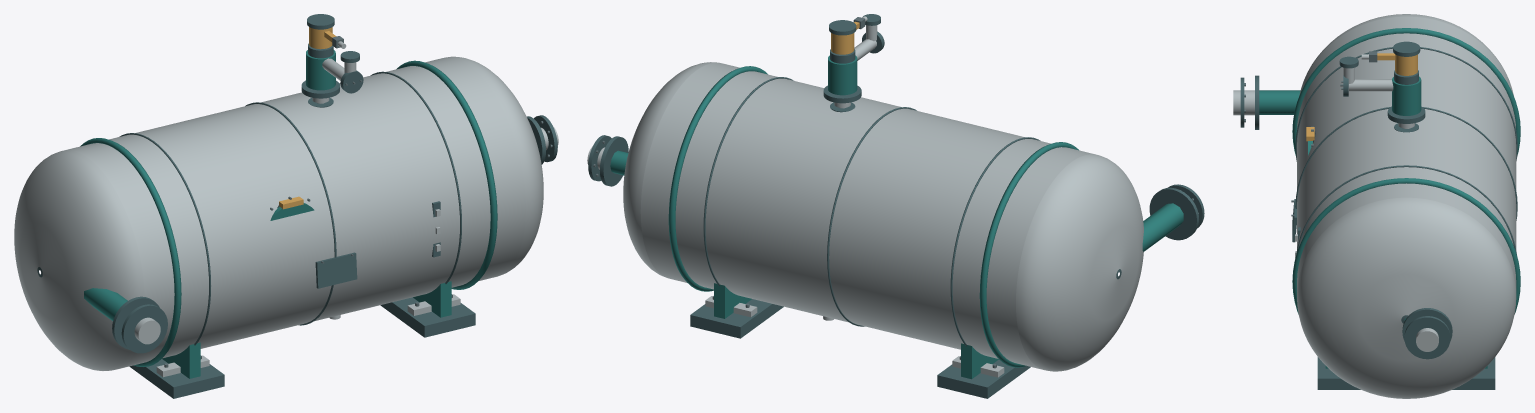
Rendered from separator_vessel.glb.
3 renders of one model, left to right at view 1: azimuth 30°, elevation 25°; view 2: azimuth 150°, elevation 25°; view 3: azimuth 270°, elevation 25°, orthographic. The views are drawn at different scales.
Visible parts, largest first — view 1: shell_outer, separator_vessel__body, separator_vessel__relief_valve; view 2: shell_outer, separator_vessel__body, separator_vessel__relief_valve; view 3: shell_outer, separator_vessel__body, separator_vessel__relief_valve.
Part boxes in pixels (x1,y1,x2,y2): shell_outer: [14, 56, 543, 370]; separator_vessel__body: [80, 60, 558, 398]; separator_vessel__relief_valve: [301, 14, 363, 103]; shell_outer: [623, 62, 1143, 371]; separator_vessel__body: [587, 66, 1204, 398]; separator_vessel__relief_valve: [823, 14, 884, 107]; shell_outer: [1297, 14, 1516, 398]; separator_vessel__body: [1233, 28, 1520, 389]; separator_vessel__relief_valve: [1339, 41, 1425, 128].
Bounding box in the file's own units: 5.67 × 3.09 × 2.75.
